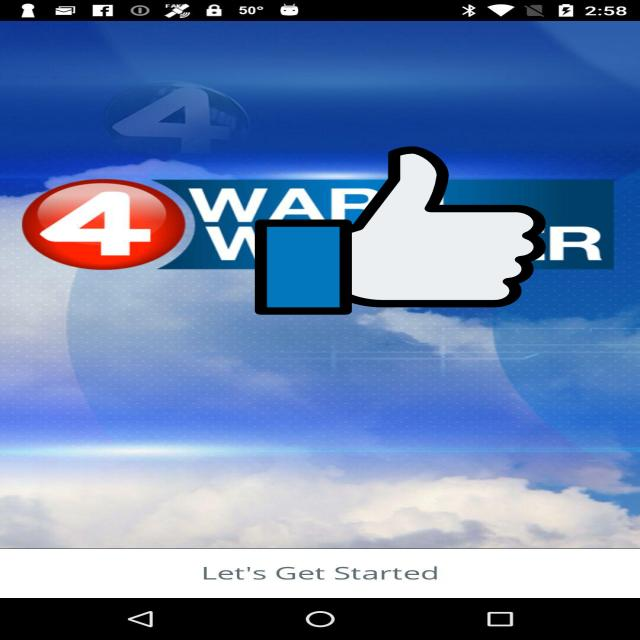privacy zuckering: (255, 143, 546, 318)
